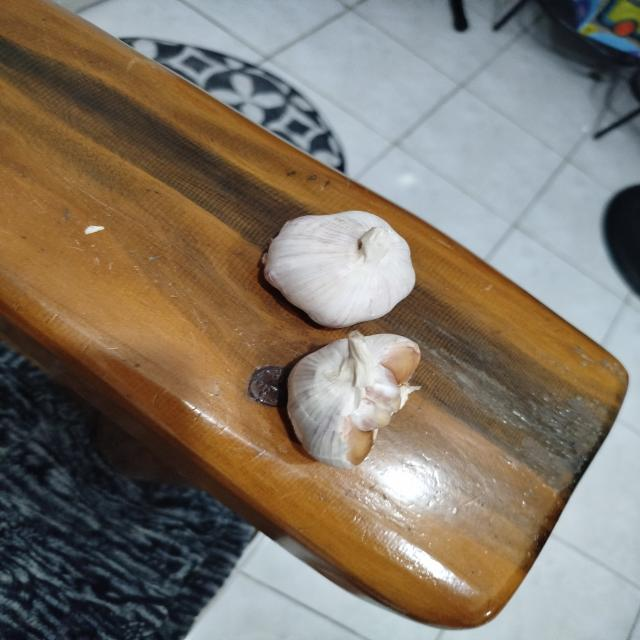garlic: (286, 329, 422, 469), (261, 210, 416, 328)
